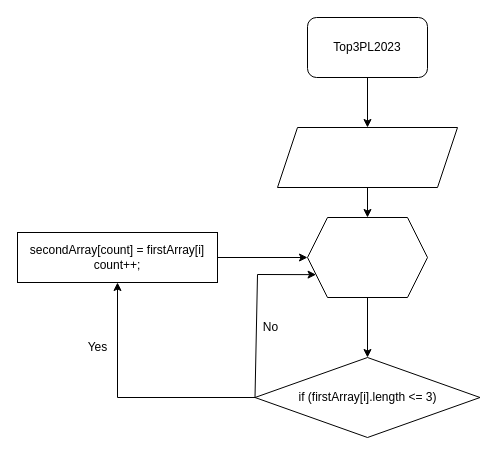
Image size: 498x455. Some labels were removed from this diagram. Here are the shapes that lost their labels. From the top down, the centre of each, then its label:
At point (367, 157): "string[] firstArray string secondArray int count = 0".
At point (367, 257): "for (int i = 0; i < firstArray.length; i++)".
